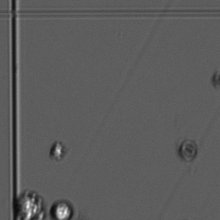Dead Cell: (178, 139, 200, 164)
Living Cell: (15, 191, 45, 218), (49, 199, 75, 218), (48, 138, 67, 161)
